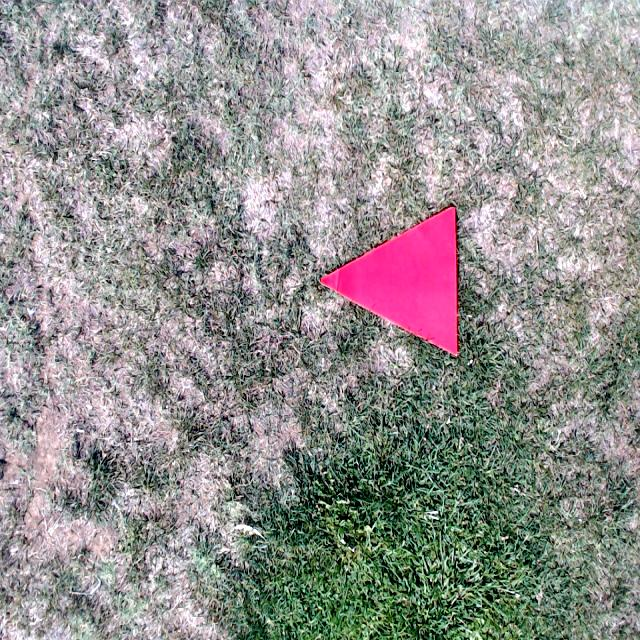red_triangle: (321, 206, 458, 357)
